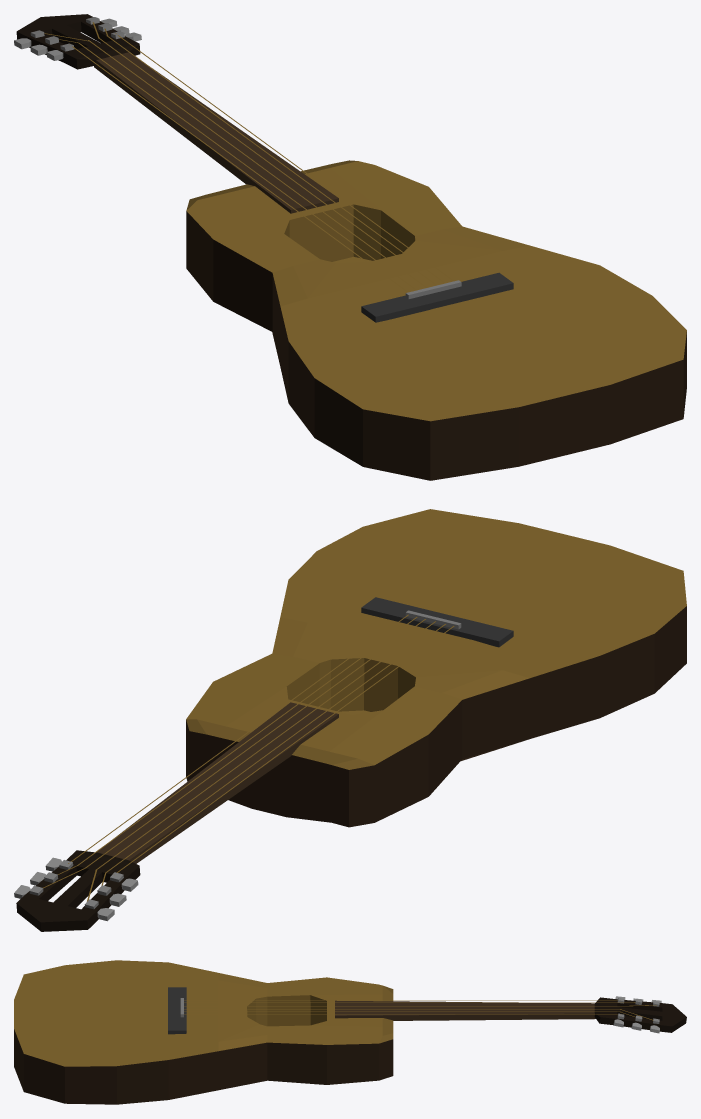
The model's file is Гитара.fbx.
3 views of the same model, one above another, from view 1: azimuth 30°, elevation 25°; view 2: azimuth 150°, elevation 25°; view 3: azimuth 270°, elevation 25° (orthographic). The views are drawn at different scales.
Visible parts, largest first — view 1: Плоскость.010; view 2: Плоскость.010; view 3: Плоскость.010.
Boxes of the visible parts, box(x1,y1,x2,y2) form: Плоскость.010: box(14, 14, 686, 480); Плоскость.010: box(14, 509, 686, 931); Плоскость.010: box(14, 960, 686, 1104).
Bounding box in the file's own units: 434 × 91.91 × 1165.
